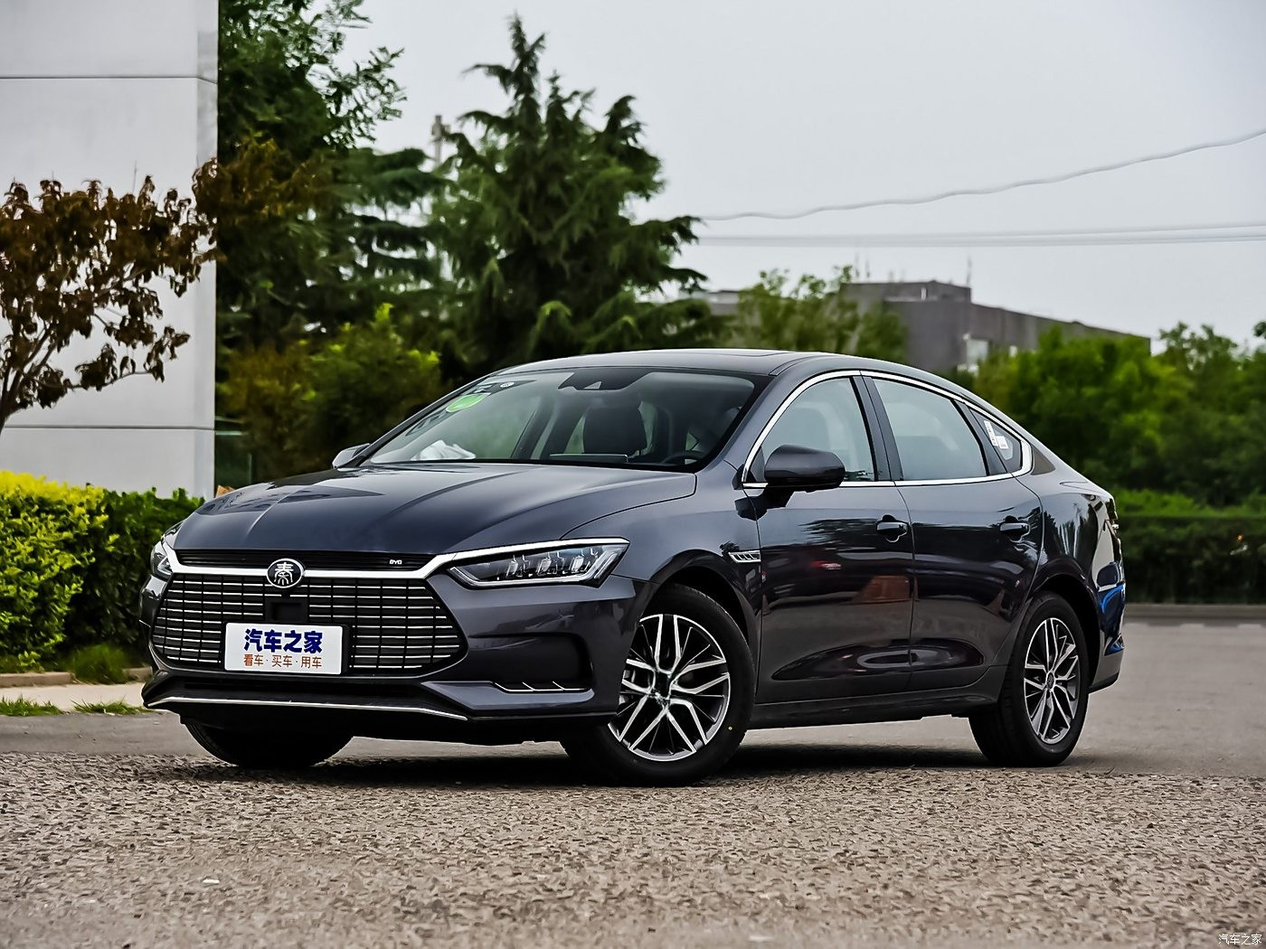BYD Qin: (267, 559, 303, 587)
